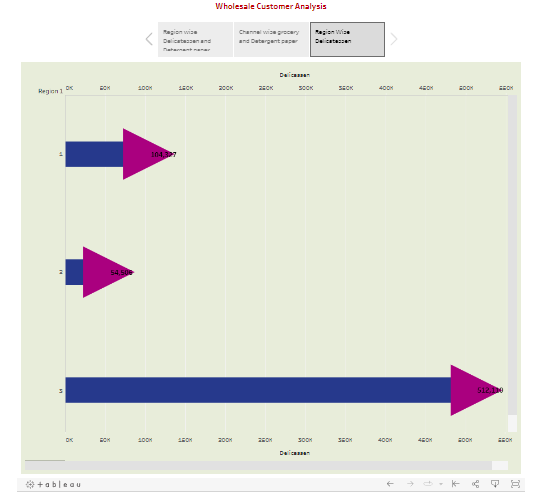

Layout of this report page (visuals, bound fields, positions):
{"tool":"tableau","page":{"name":"Dashboard 2","canvas":[1000,800],"ordinal":1},"visuals":[{"type":"title","box":[8,8,984,41]},{"type":"worksheet","title":"rwdeli & deter","mark":"Automatic","rows":["Region (copy)_1689131345984946176"],"cols":["Detergents_Paper","Calculation_1452129415632297984","Delicassen"],"box":[8,49,492,371.5]},{"type":"worksheet","title":"cwgrocery and deter","mark":"Automatic","rows":["Channel (copy)_1689131345987100674"],"cols":["Grocery","Detergents_Paper"],"box":[500,49,492,371.5]},{"type":"worksheet","title":"Rw Delicassen","mark":"Shape","rows":["Region (copy)_1689131345984946176"],"cols":["Delicassen","Delicassen"],"box":[8,420.5,984,371.5]}]}

Visuals, with their boxes on the page's 1000x800 design canvas (x1, y1, x2, y2). These are canvas units, not pixel positions in the 537x500 screenshot, which may show the page scaled, cropped or inside an application window:
title: <region>8, 8, 992, 49</region>
"rwdeli & deter" worksheet: <region>8, 49, 500, 420</region>
"cwgrocery and deter" worksheet: <region>500, 49, 992, 420</region>
"Rw Delicassen" worksheet (Shape marks): <region>8, 420, 992, 792</region>
